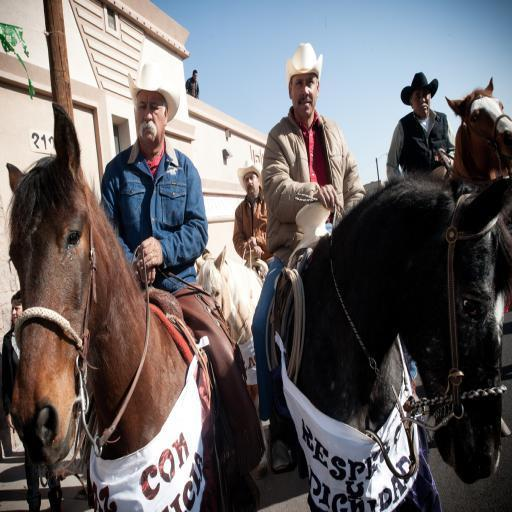horse: (7, 102, 248, 512), (275, 175, 511, 511), (196, 246, 268, 428), (444, 78, 512, 211)
